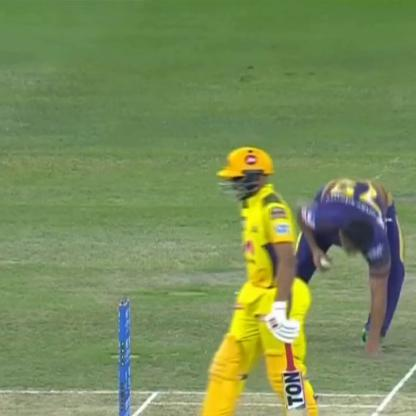ball: (312, 252, 333, 272)
